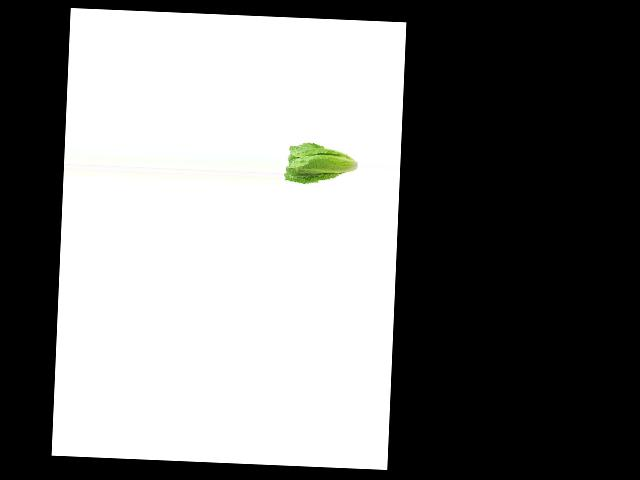lettuce: (283, 136, 358, 188)
